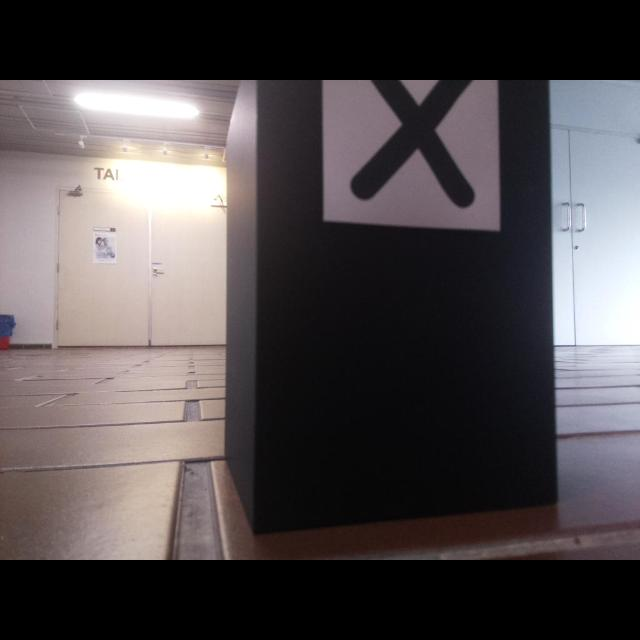X: (348, 80, 477, 210)
